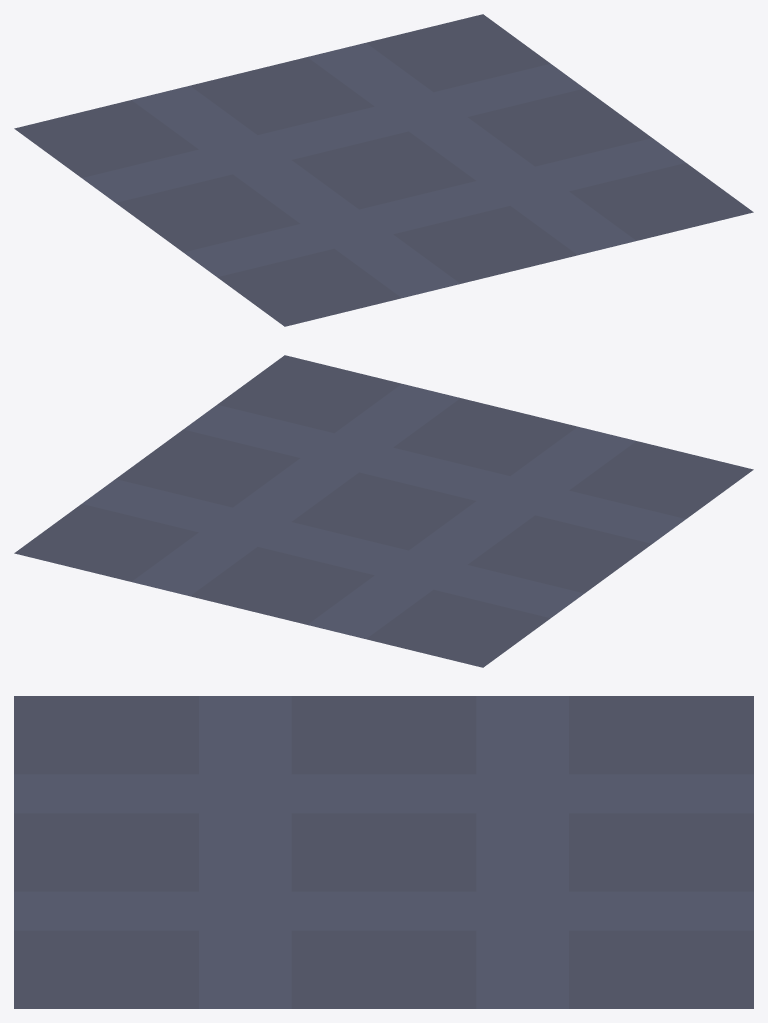
File: terrain_roadCross.glb
The picture shows the model from 3 angles, top to bottom: view 1: azimuth 30°, elevation 25°; view 2: azimuth 150°, elevation 25°; view 3: azimuth 270°, elevation 25°; orthographic projection. The views are drawn at different scales.
Visible parts, largest first — view 1: terrain_roadCross; view 2: terrain_roadCross; view 3: terrain_roadCross.
Part boxes in pixels (box(x1,y1,x2,y2)): terrain_roadCross: box(14, 14, 753, 326); terrain_roadCross: box(14, 355, 753, 667); terrain_roadCross: box(14, 696, 753, 1008).
Size of the model in its own units: 1 by 0 by 1.
